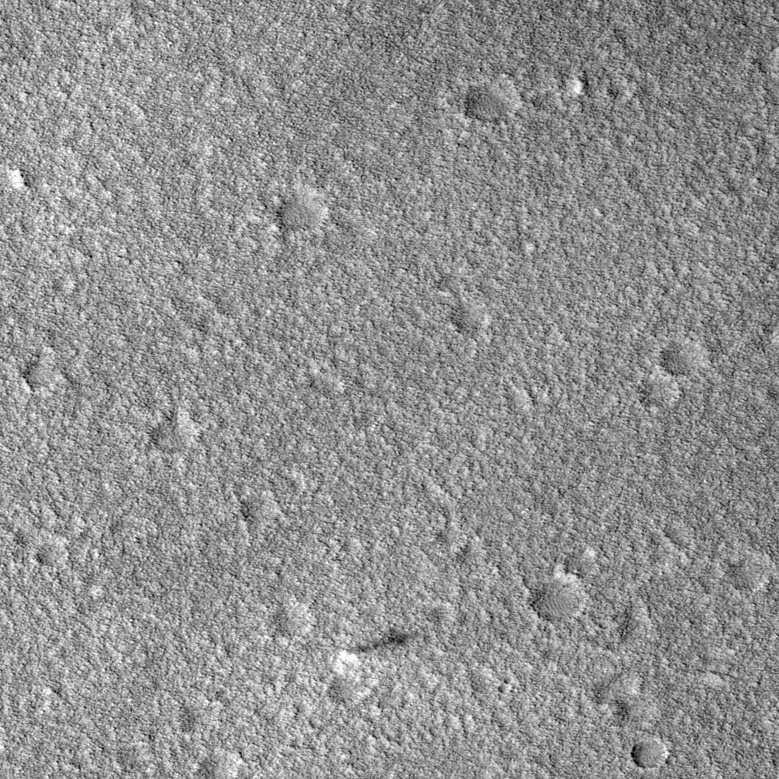dust_devil: (332, 625, 410, 677)
